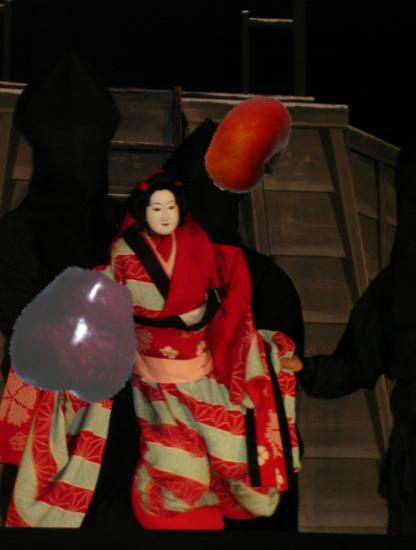Apple: (3, 264, 149, 410)
Nectarine: (196, 91, 303, 198)
